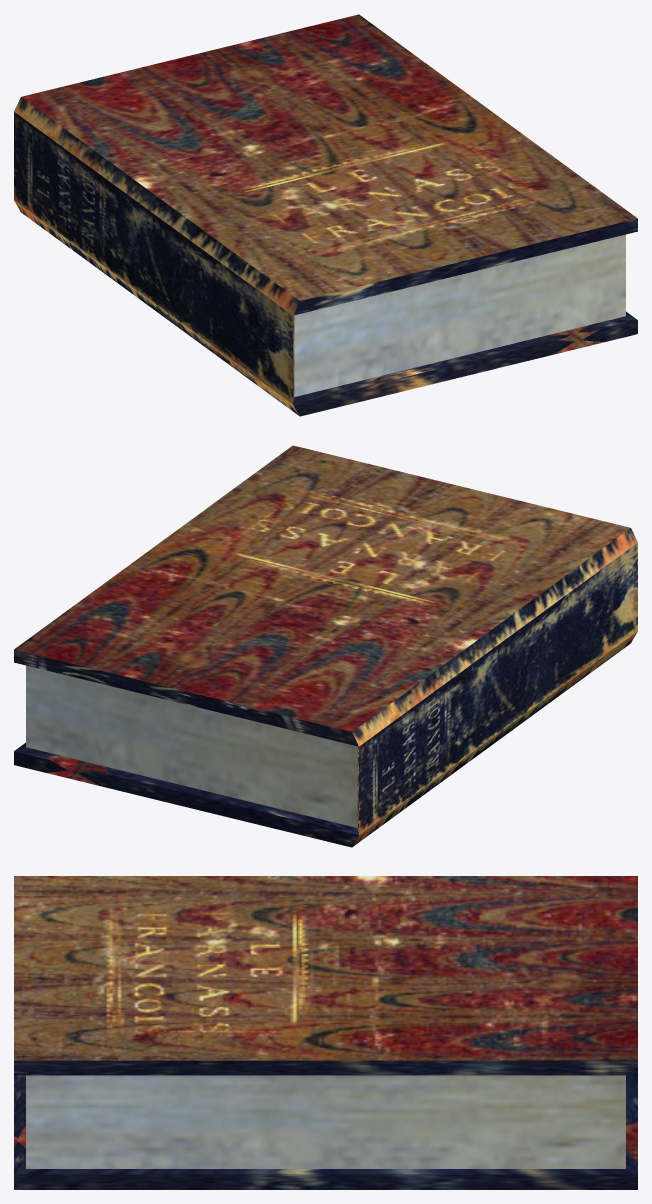
The model's file is book3.fbx.
3 views of the same model, one above another, from view 1: azimuth 30°, elevation 25°; view 2: azimuth 150°, elevation 25°; view 3: azimuth 270°, elevation 25° (orthographic). The views are drawn at different scales.
Parts seen in each view (by area): view 1: Book1; view 2: Book1; view 3: Book1.
Part boxes in pixels (<box>): Book1: <box>14,14,637,416</box>; Book1: <box>14,445,637,847</box>; Book1: <box>14,876,637,1189</box>.
Size of the model in its own units: 25 by 8 by 35.
1 material, 1 textured.
